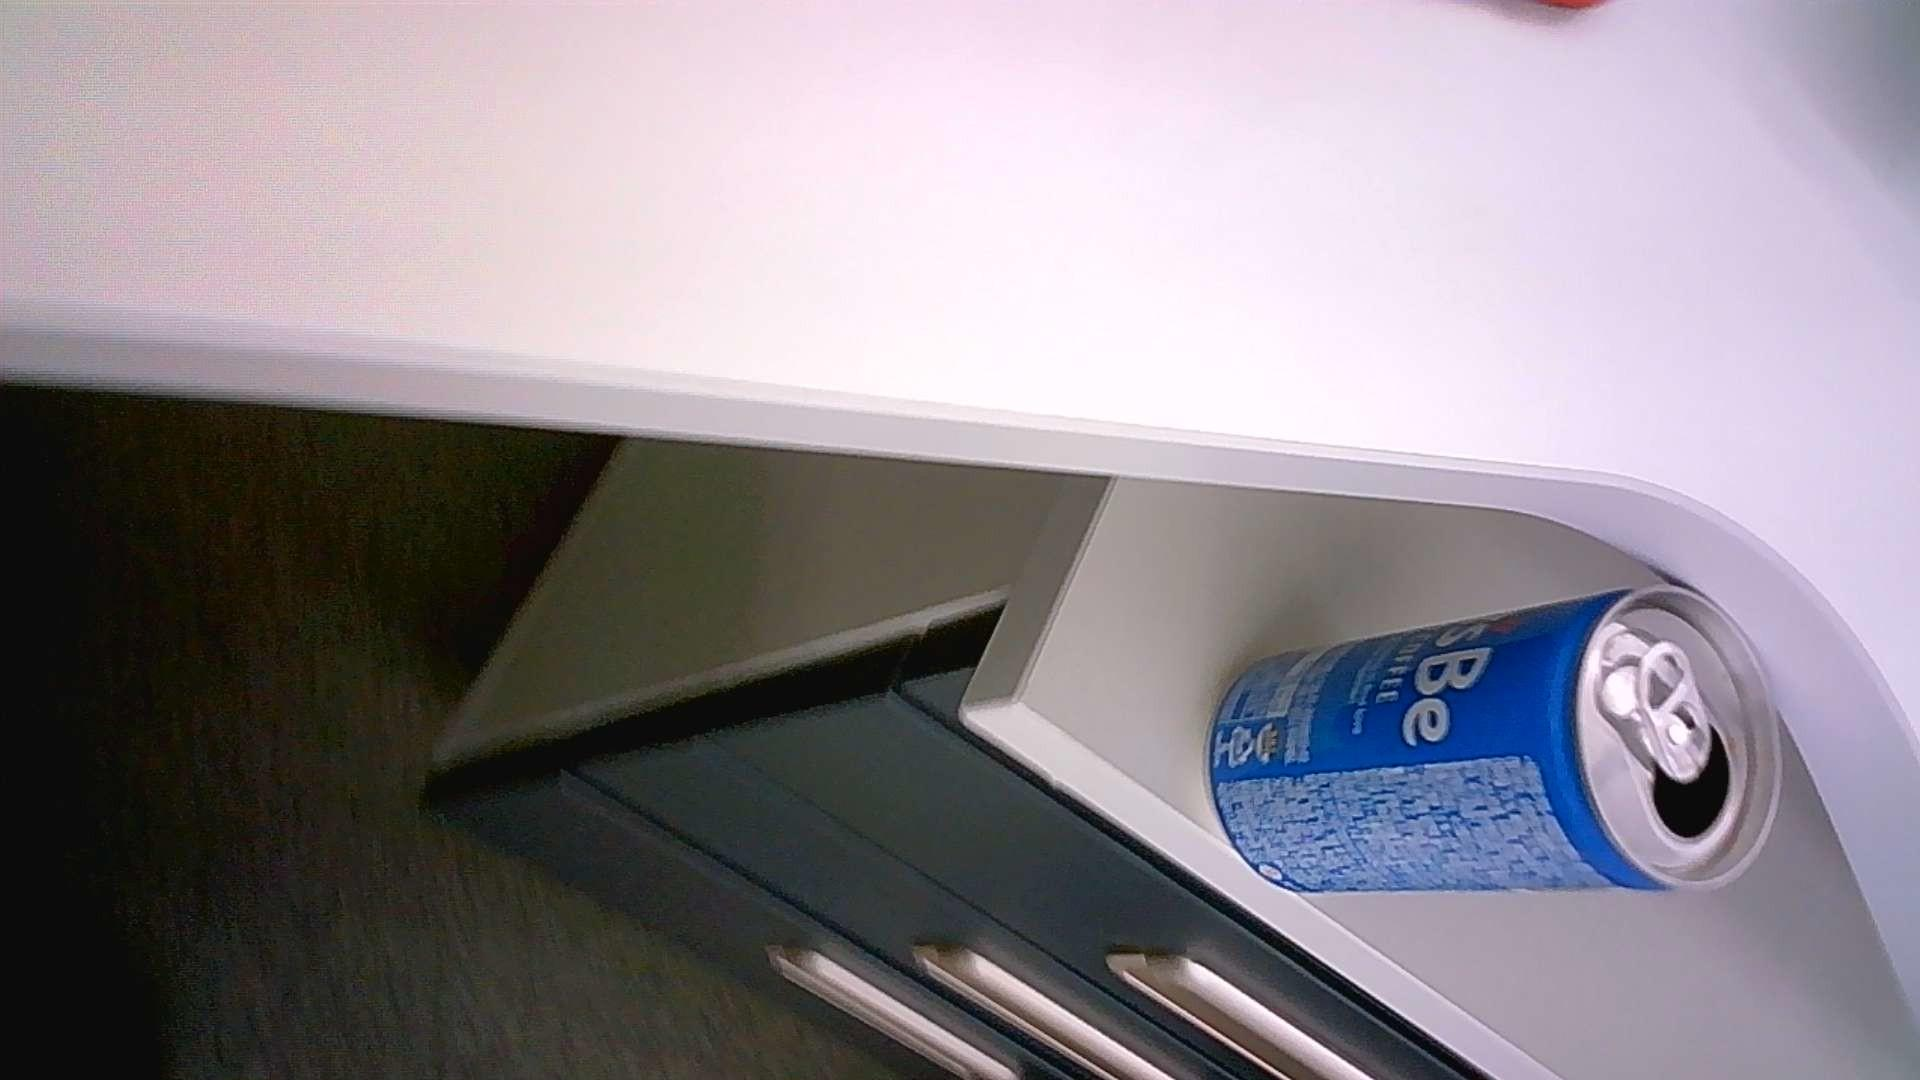letsbe: (1205, 582, 1783, 893)
